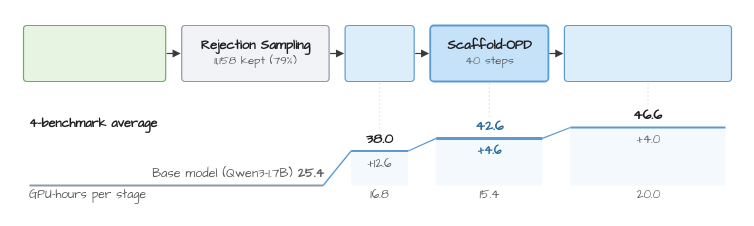
This 754x226 diagram has some shape labels left out. Each missing label, with the box of its shape:
GRPO on Failures 2,212 problems · 30 steps: (563, 24, 732, 82)
SFT 1 epoch: (344, 24, 414, 82)
Teacher Solutions 14,116 problems: (22, 24, 166, 82)
